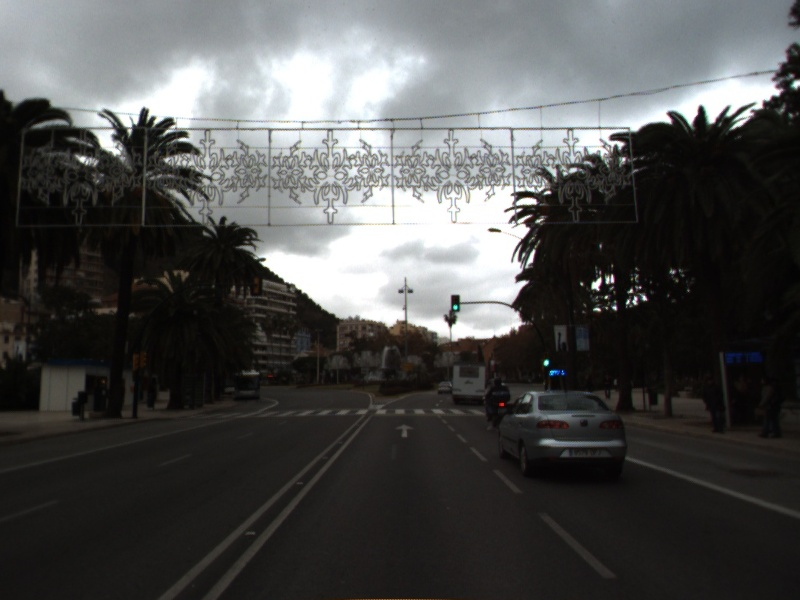STRAIGHT: (393, 421, 417, 439)
